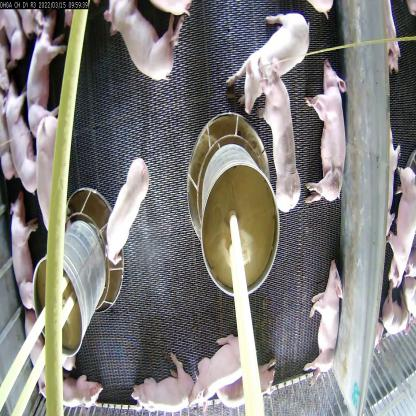Pig: (223, 5, 310, 127), (257, 57, 307, 212), (300, 51, 344, 203), (105, 0, 180, 89), (30, 121, 76, 241), (309, 265, 351, 396), (27, 13, 71, 137), (132, 338, 198, 415), (103, 159, 146, 267), (192, 329, 248, 402), (211, 352, 275, 415), (0, 202, 36, 300), (7, 86, 37, 203)
